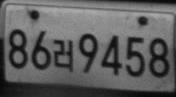4: (100, 33, 123, 75)
5: (125, 35, 145, 77)
6: (30, 29, 51, 70)
8: (147, 37, 170, 78), (7, 28, 29, 69)
9: (78, 32, 98, 74)
러: (53, 38, 73, 72)
